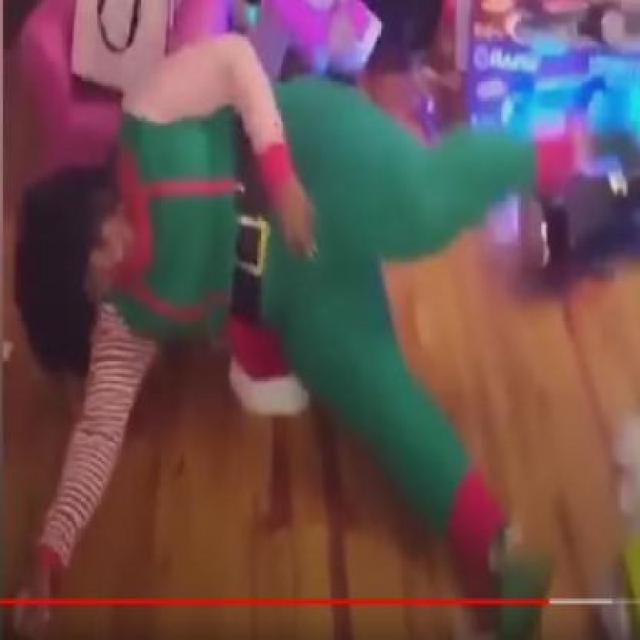fall: (16, 29, 590, 638)
